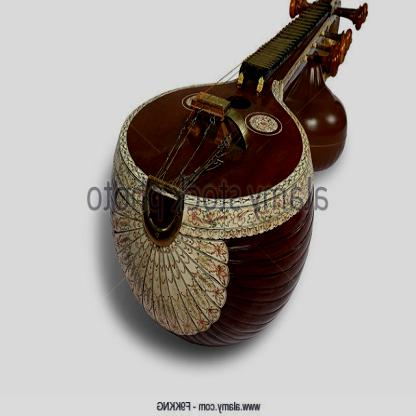Veena: (106, 20, 322, 355)
